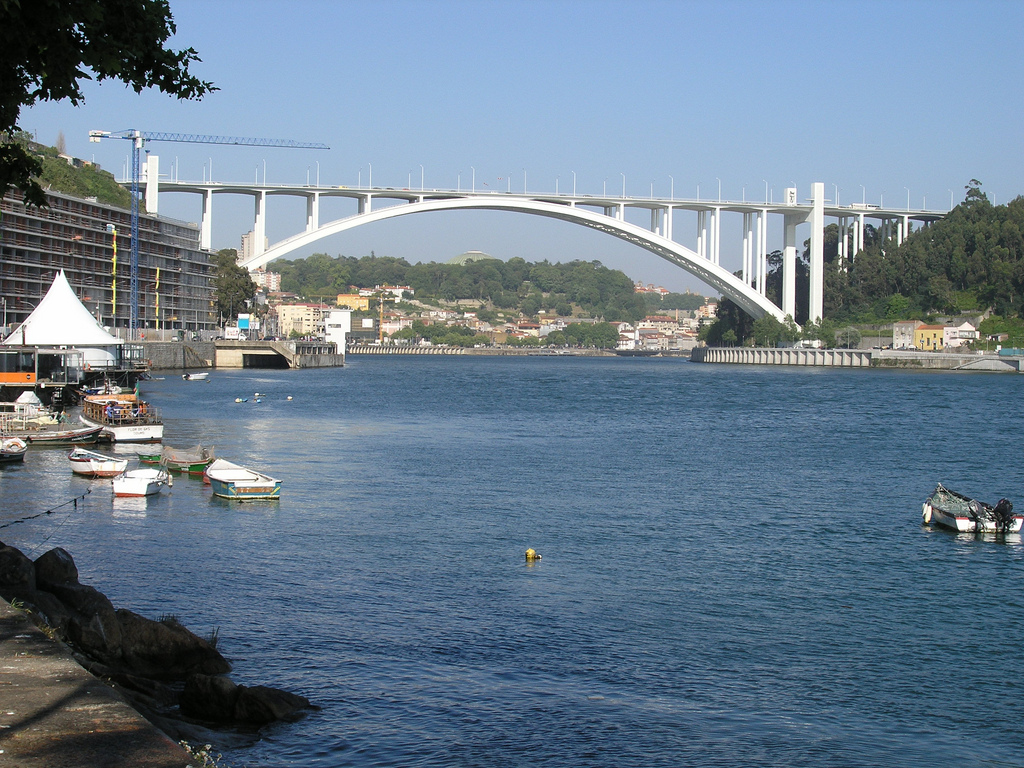arrabida: (115, 155, 948, 347)
